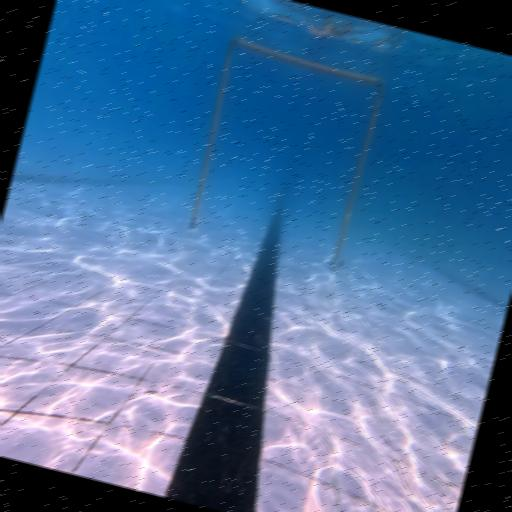gate: (182, 36, 390, 268)
